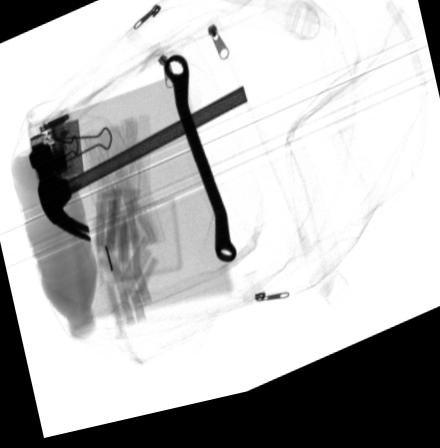Hammer: (26, 96, 246, 243)
Wrench: (163, 61, 235, 272)
